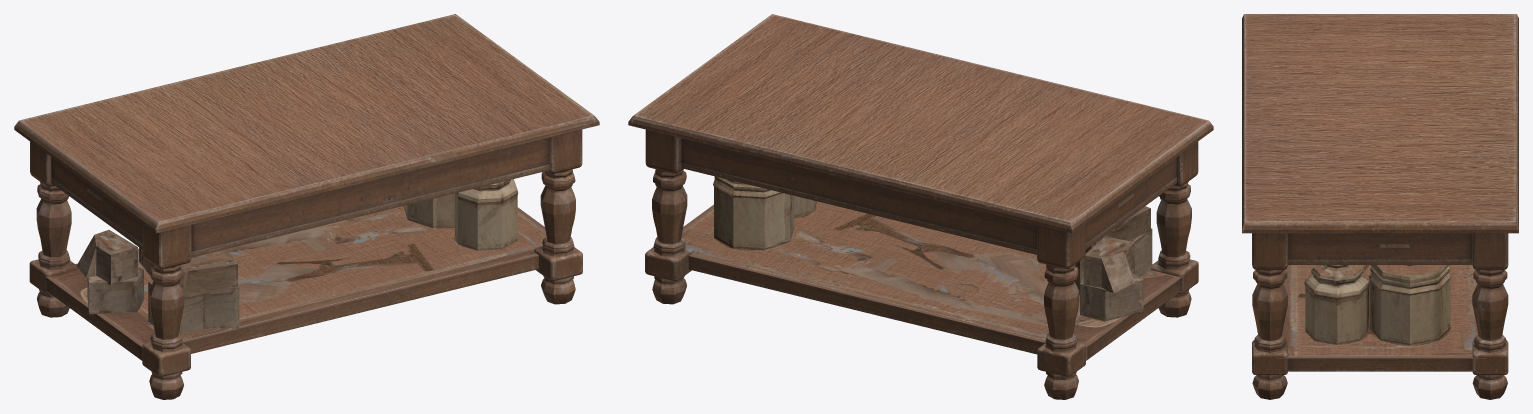
Rendered from DiningTable.fbx.
3 renders of one model, left to right at view 1: azimuth 30°, elevation 25°; view 2: azimuth 150°, elevation 25°; view 3: azimuth 270°, elevation 25°, orthographic. The views are drawn at different scales.
Parts seen in each view (by area): view 1: DiningTable_Low; view 2: DiningTable_Low; view 3: DiningTable_Low.
Boxes of the visible parts, x1=… form: DiningTable_Low: x1=14, y1=14, x2=599, y2=399; DiningTable_Low: x1=628, y1=14, x2=1213, y2=399; DiningTable_Low: x1=1242, y1=14, x2=1518, y2=399.
Size of the model in its own units: 1.92 by 0.7719 by 1.06.
